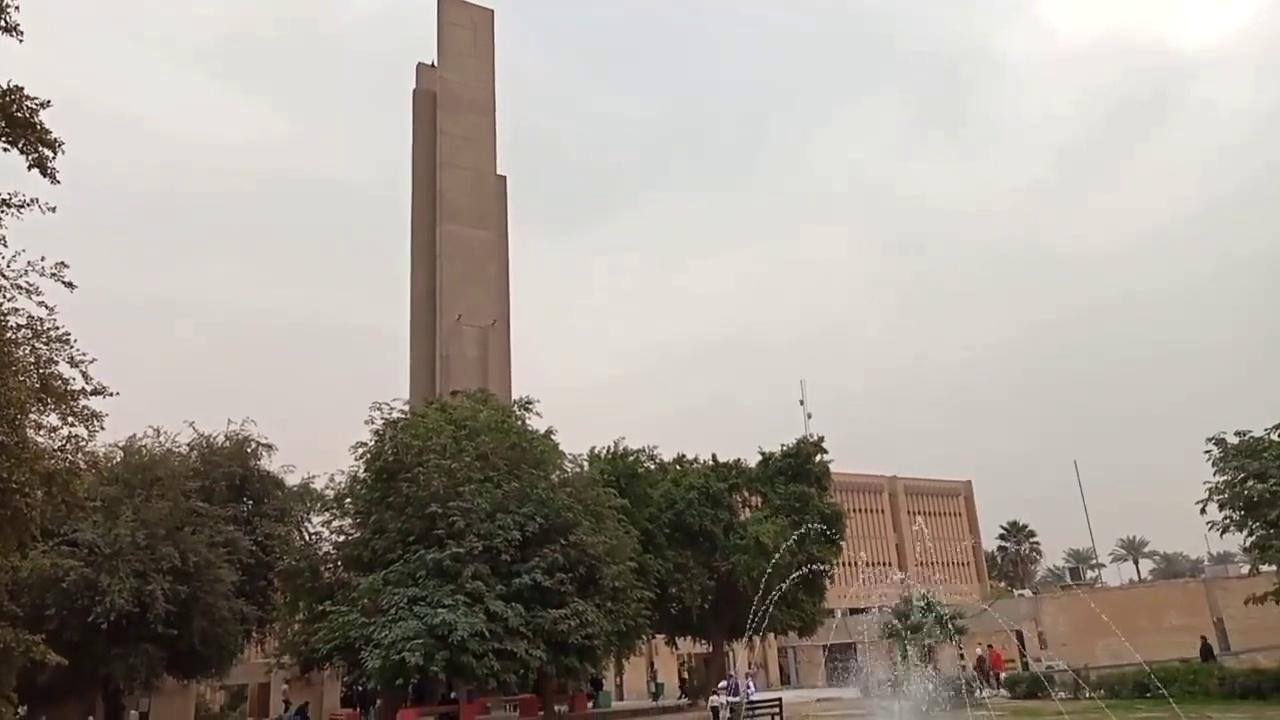fountain: (746, 517, 1208, 720)
person: (986, 643, 1005, 692), (973, 647, 991, 692), (706, 688, 726, 719), (587, 671, 603, 707), (676, 659, 690, 700), (1199, 634, 1217, 663), (280, 677, 293, 717), (648, 660, 658, 703), (292, 700, 311, 719)
tree: (0, 1, 324, 717), (287, 385, 654, 717), (6, 415, 320, 718), (0, 0, 118, 718), (643, 431, 847, 703), (1194, 420, 1279, 607), (876, 583, 973, 709), (992, 517, 1043, 590), (1108, 533, 1158, 581), (1061, 545, 1105, 583), (1149, 549, 1188, 579), (1036, 562, 1066, 587)
